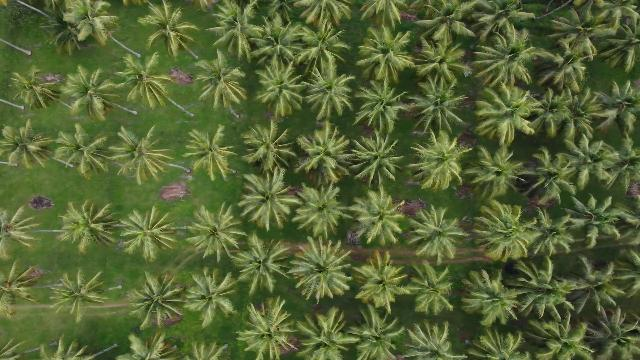trees: (468, 28, 540, 96), (506, 260, 577, 324), (43, 1, 124, 57), (470, 88, 542, 151), (289, 239, 357, 305), (237, 299, 310, 359), (469, 204, 542, 264), (558, 133, 631, 193), (229, 237, 296, 302), (109, 125, 179, 185), (408, 26, 474, 89), (408, 131, 475, 193), (402, 79, 471, 139), (406, 205, 473, 266), (126, 273, 192, 334), (561, 196, 636, 249), (186, 206, 253, 265), (114, 53, 182, 111), (463, 144, 531, 202), (117, 207, 186, 263), (241, 171, 303, 233), (355, 26, 417, 88), (348, 252, 411, 313), (137, 1, 201, 61), (348, 188, 412, 248), (48, 269, 116, 325), (57, 199, 124, 255), (60, 66, 127, 122), (344, 129, 406, 189), (353, 80, 415, 139), (460, 269, 523, 327), (530, 40, 593, 98), (529, 86, 593, 142), (296, 125, 355, 185), (194, 52, 251, 114), (253, 58, 309, 120), (184, 271, 243, 329), (294, 182, 352, 241), (210, 4, 267, 64), (52, 125, 116, 178), (341, 307, 405, 360), (295, 308, 360, 360), (242, 119, 299, 177), (303, 62, 358, 122), (403, 261, 461, 317), (184, 126, 240, 183), (253, 16, 308, 72), (294, 25, 350, 77), (524, 318, 594, 359), (2, 259, 49, 320), (2, 120, 57, 171), (8, 68, 64, 112), (403, 321, 466, 360), (2, 202, 45, 258), (36, 334, 113, 360), (298, 2, 357, 33)
